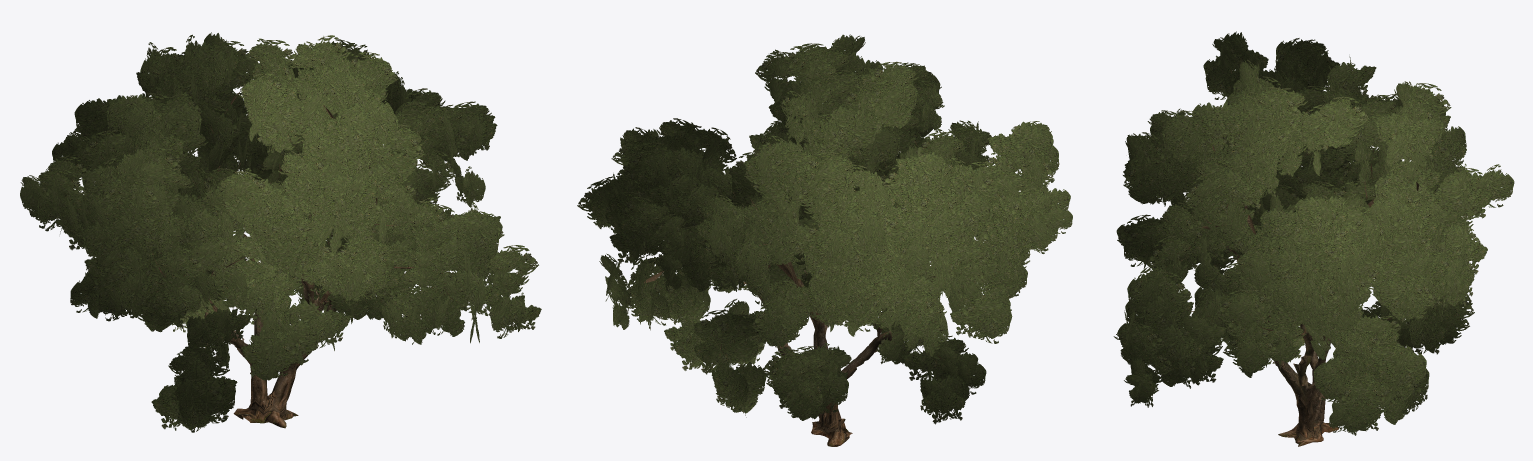
File: tree_jacaranda.glb
The picture shows the model from 3 angles, left to right: view 1: azimuth 30°, elevation 25°; view 2: azimuth 150°, elevation 25°; view 3: azimuth 270°, elevation 25°; orthographic projection. The views are drawn at different scales.
Parts seen in each view (by area): view 1: foliage, trunk, branches; view 2: foliage, trunk, branches; view 3: foliage, trunk, branches.
Boxes of the visible parts, x1,y1,x2,y2 form: foliage: [20, 32, 541, 432]; trunk: [204, 234, 336, 428]; branches: [77, 90, 487, 355]; foliage: [577, 34, 1072, 424]; trunk: [743, 270, 892, 446]; branches: [643, 71, 986, 366]; foliage: [1113, 31, 1514, 435]; trunk: [1265, 312, 1338, 446]; branches: [1135, 68, 1418, 404].
Size of the model in its own units: 26.55 by 20.36 by 20.47.
Materials: 3 (3 with a texture image).
